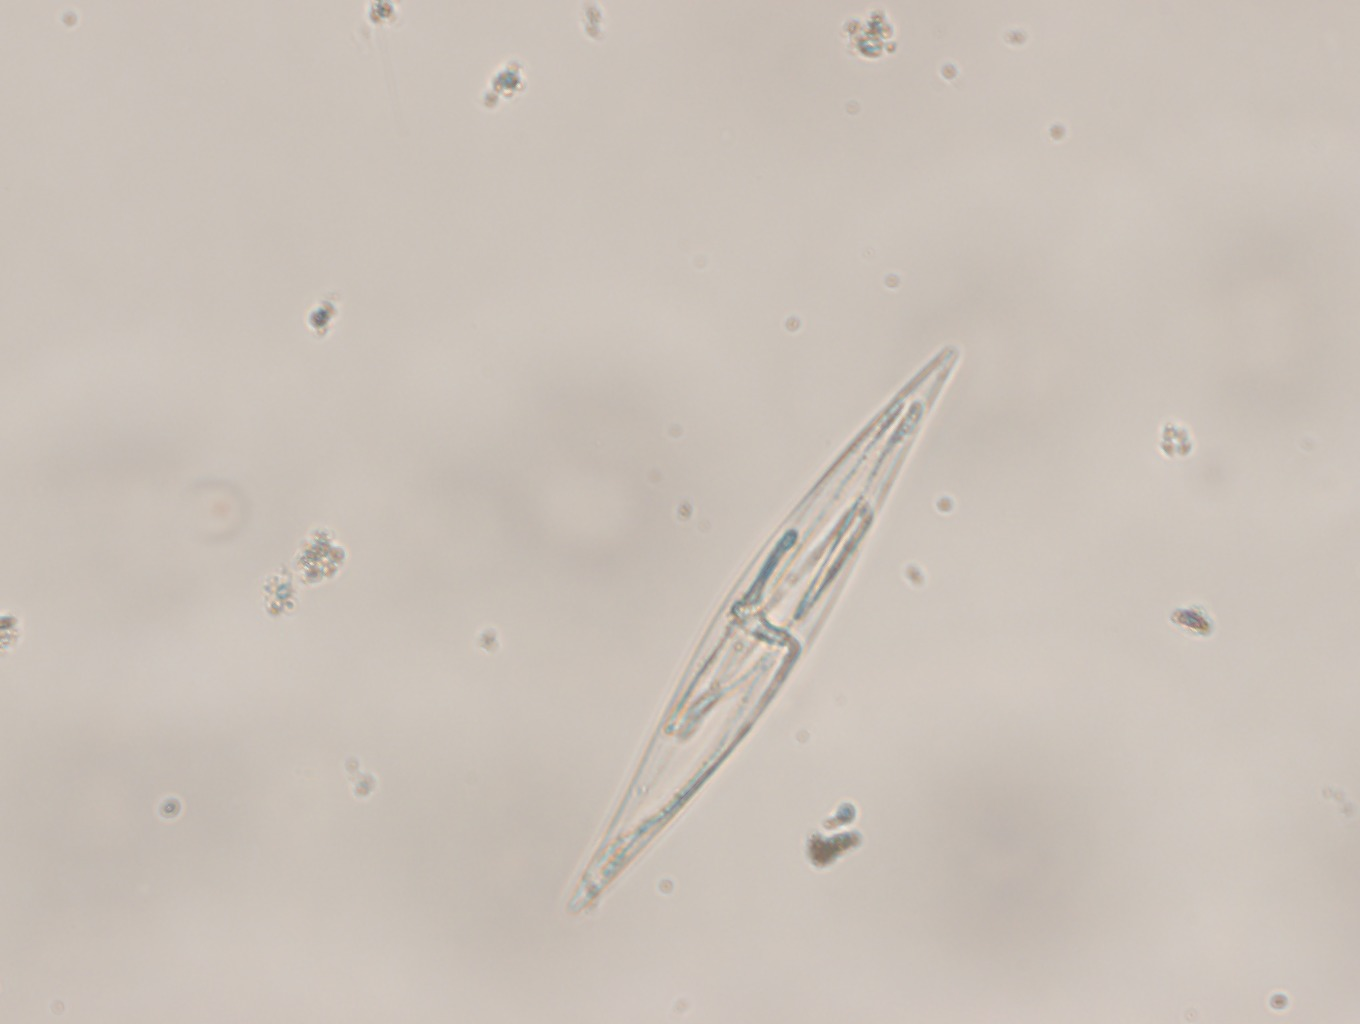navicula: (563, 347, 959, 914)
